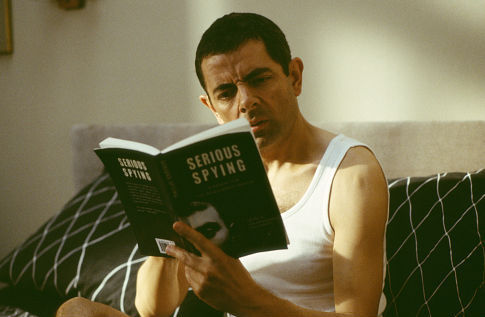41: (189, 26, 304, 165)
Male: (189, 26, 304, 165)
Vest: (212, 126, 405, 317)
